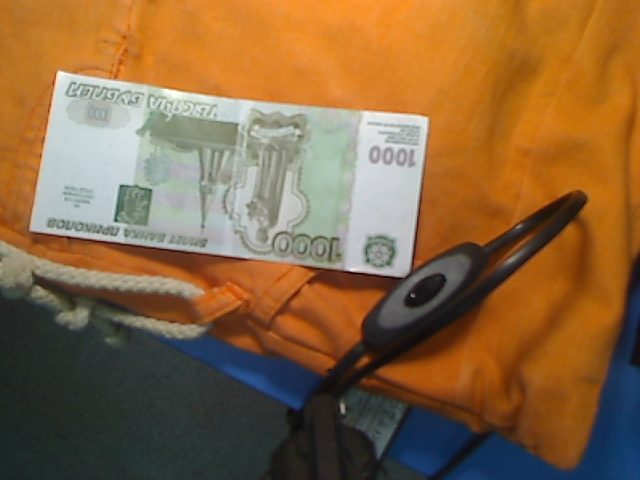banknotes: (28, 69, 433, 279)
